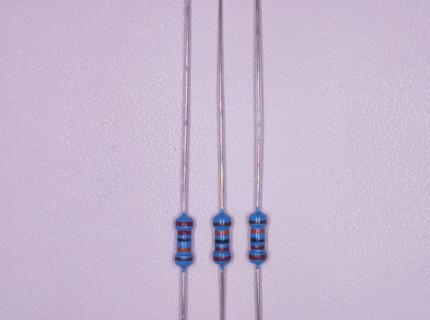Black band: (215, 239, 229, 244), (251, 238, 265, 243), (177, 238, 191, 242)
Brown band: (175, 256, 192, 261), (213, 223, 231, 227), (249, 220, 267, 224)
Orange band: (177, 247, 191, 252), (215, 230, 229, 235), (251, 229, 265, 233)
Red band: (175, 220, 193, 227), (249, 254, 266, 260), (213, 256, 231, 261), (215, 247, 230, 252), (250, 245, 265, 250), (177, 231, 191, 235)
